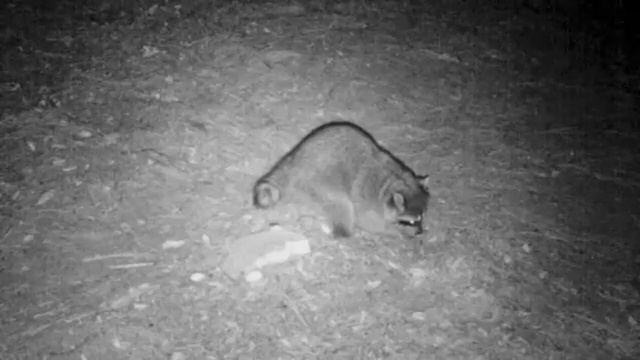raccoon: (251, 117, 437, 248)
